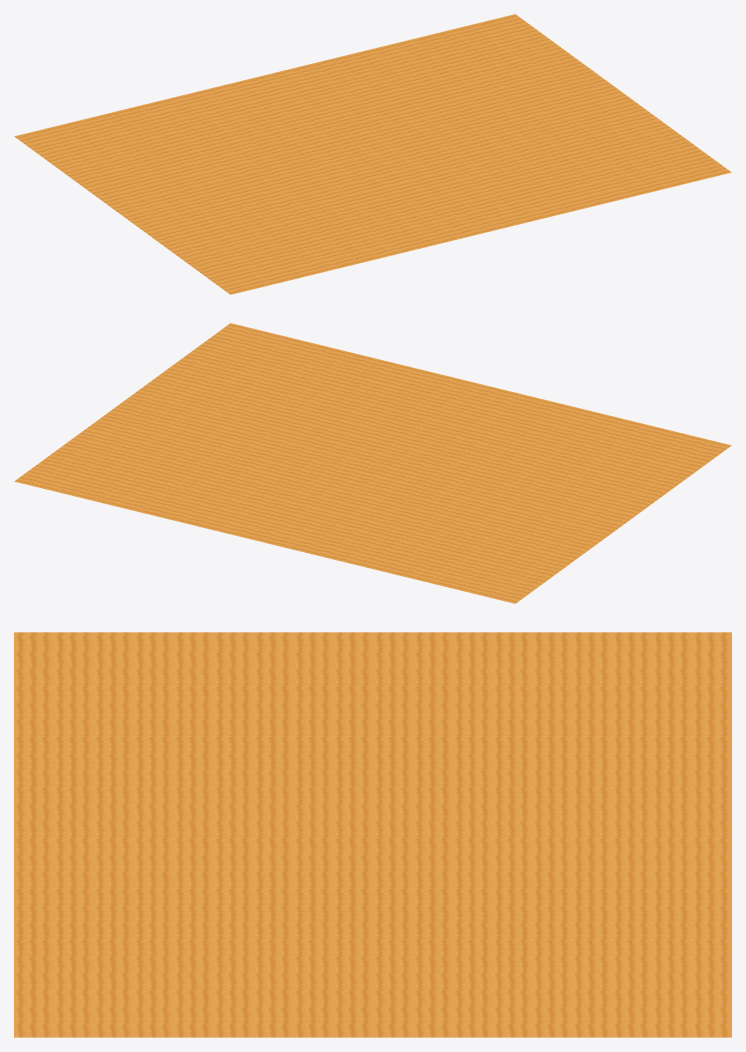
Rendered from SandPlane.FBX.
3 renders of one model, top to bottom at view 1: azimuth 30°, elevation 25°; view 2: azimuth 150°, elevation 25°; view 3: azimuth 270°, elevation 25°, orthographic. The views are drawn at different scales.
Parts seen in each view (by area): view 1: SandPlane; view 2: SandPlane; view 3: SandPlane.
Part boxes in pixels (bbox=[...]): SandPlane: bbox=[14, 14, 731, 294]; SandPlane: bbox=[14, 323, 731, 603]; SandPlane: bbox=[14, 632, 731, 1037].
Size of the model in its own units: 21.64 by 7.07e-07 by 16.19.
